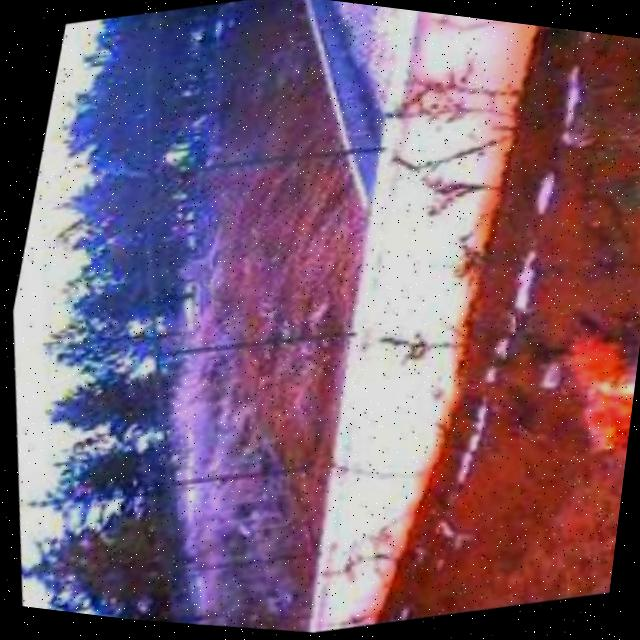fire: (534, 315, 640, 490)
